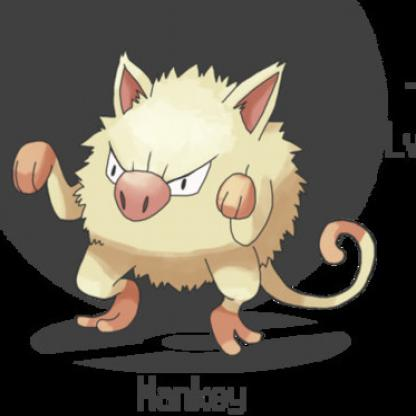Mankey: (2, 51, 381, 356)
